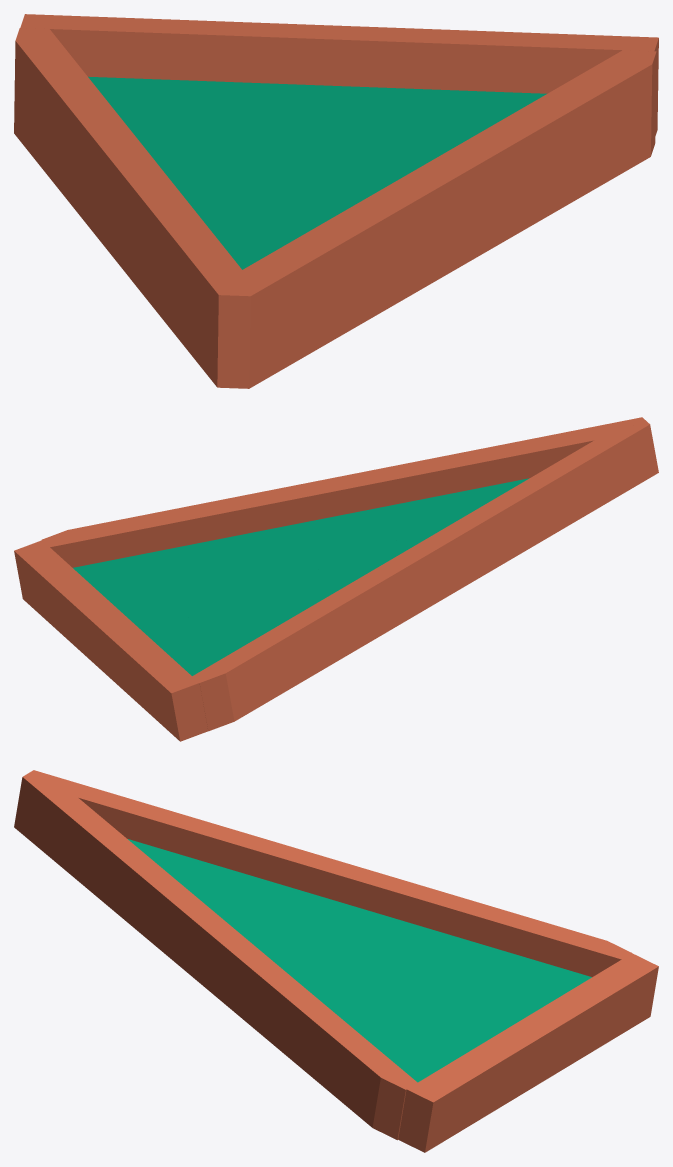
File: UmbrellaLeaf.fbx
3 renders of one model, top to bottom at view 1: azimuth 30°, elevation 25°; view 2: azimuth 150°, elevation 25°; view 3: azimuth 270°, elevation 25°, orthographic. The views are drawn at different scales.
Parts seen in each view (by area): view 1: mergedBlocks; view 2: mergedBlocks; view 3: mergedBlocks.
Boxes of the visible parts, left/top/right/bottom form: mergedBlocks: left=14, top=14, right=658, bottom=388; mergedBlocks: left=14, top=417, right=658, bottom=741; mergedBlocks: left=14, top=770, right=658, bottom=1152.
Bounding box in the file's own units: 18.58 × 5.78 × 21.76.
